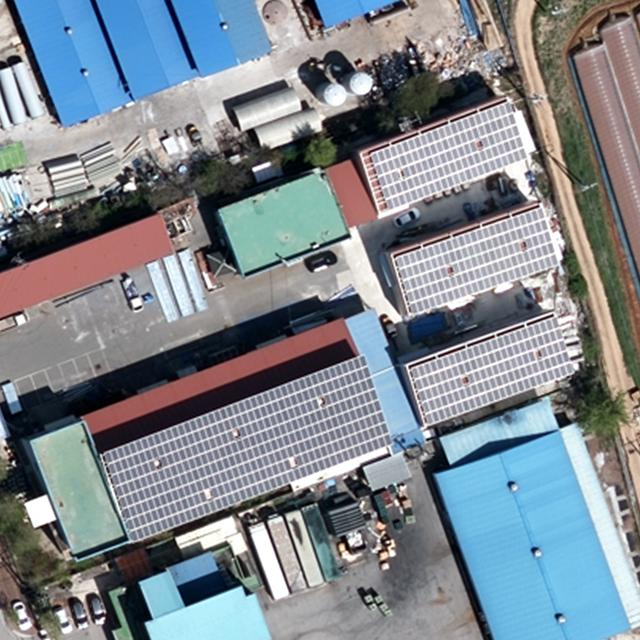solarpanel: (106, 354, 400, 551), (405, 310, 576, 426), (393, 204, 562, 312), (370, 98, 531, 209)
